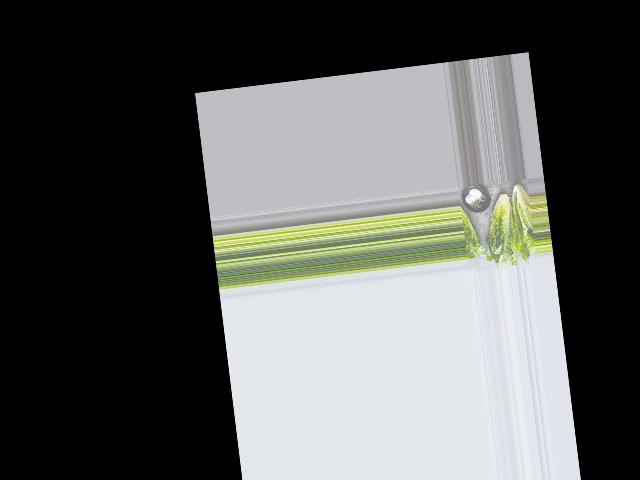lettuce: (506, 178, 535, 256)
